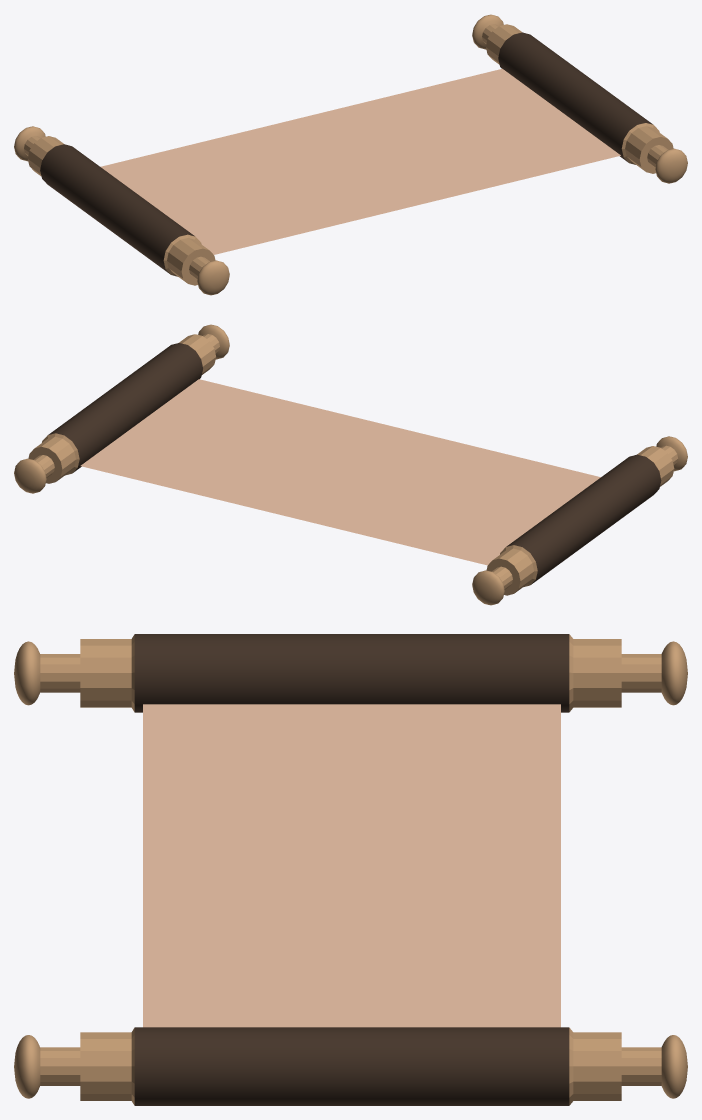
Rendered from Scroll.fbx.
3 renders of one model, top to bottom at view 1: azimuth 30°, elevation 25°; view 2: azimuth 150°, elevation 25°; view 3: azimuth 270°, elevation 25°, orthographic. The views are drawn at different scales.
Visible parts, largest first — view 1: pCube27; view 2: pCube27; view 3: pCube27.
Boxes of the visible parts, x1,y1,x2,y2 form: pCube27: [14, 14, 687, 295]; pCube27: [14, 324, 687, 605]; pCube27: [14, 634, 687, 1105].
Bounding box in the file's own units: 25.19 × 1.95 × 16.79.
